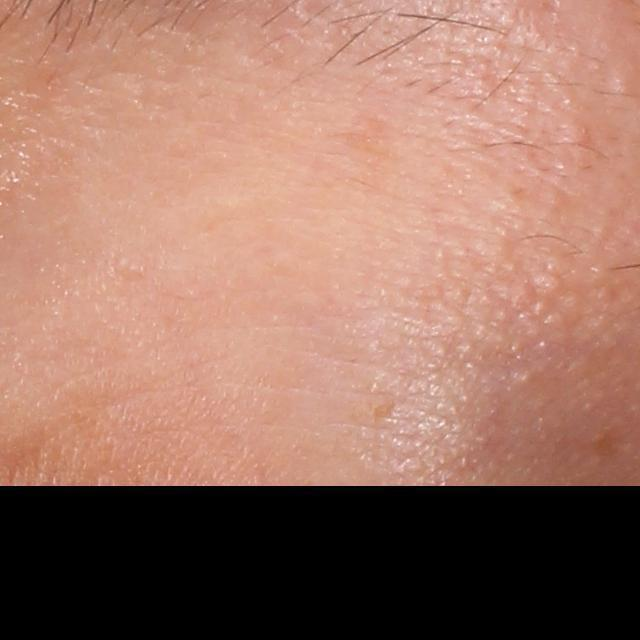melasma: (582, 426, 625, 462)
other: (523, 270, 564, 298), (558, 289, 585, 318), (531, 297, 554, 320), (533, 339, 552, 355)
